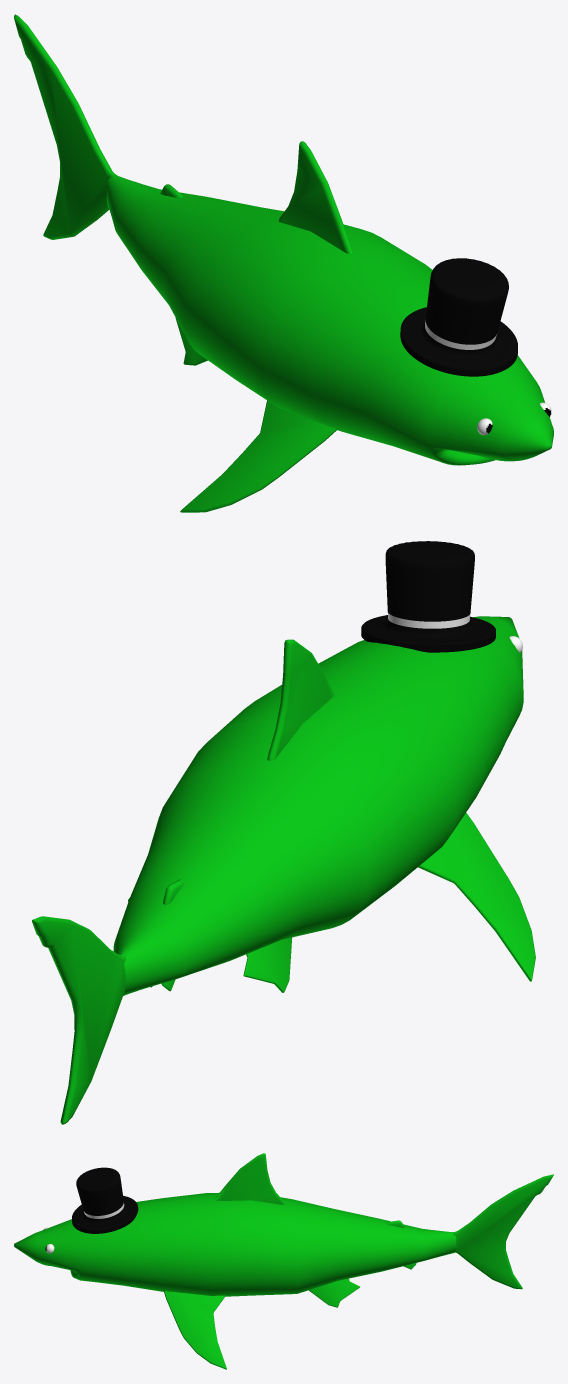
File: green-shark.glb
The picture shows the model from 3 angles, top to bottom: view 1: azimuth 30°, elevation 25°; view 2: azimuth 150°, elevation 25°; view 3: azimuth 270°, elevation 25°; orthographic projection. The views are drawn at different scales.
Parts seen in each view (by area): view 1: Jaws, Circle, Vert.006, Vert, Vert.007; view 2: Jaws, Circle, Vert.006, Vert, Vert.007, Vert.002; view 3: Jaws, Vert.006, Circle, Vert, Vert.007, Vert.002.
Boxes of the visible parts, x1,y1,x2,y2 form: Jaws: (106, 175, 553, 465); Circle: (400, 258, 517, 376); Vert.006: (14, 14, 116, 239); Vert: (180, 400, 337, 512); Vert.007: (278, 141, 353, 253); Jaws: (113, 616, 523, 995); Circle: (361, 541, 495, 652); Vert.006: (32, 916, 126, 1124); Vert: (128, 812, 535, 981); Vert.007: (267, 639, 334, 760); Vert.002: (243, 937, 292, 992); Jaws: (14, 1192, 456, 1296); Vert.006: (452, 1174, 553, 1289); Circle: (72, 1167, 138, 1233); Vert: (164, 1291, 226, 1369); Vert.007: (214, 1153, 285, 1205); Vert.002: (309, 1278, 359, 1307).
Bounding box in the file's own units: 2.41 × 2 × 5.81.
